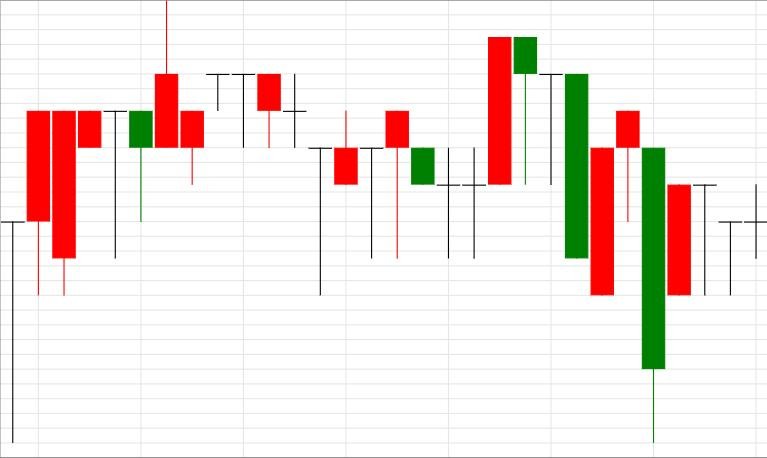hanging_man_fall: (437, 38, 538, 259)
